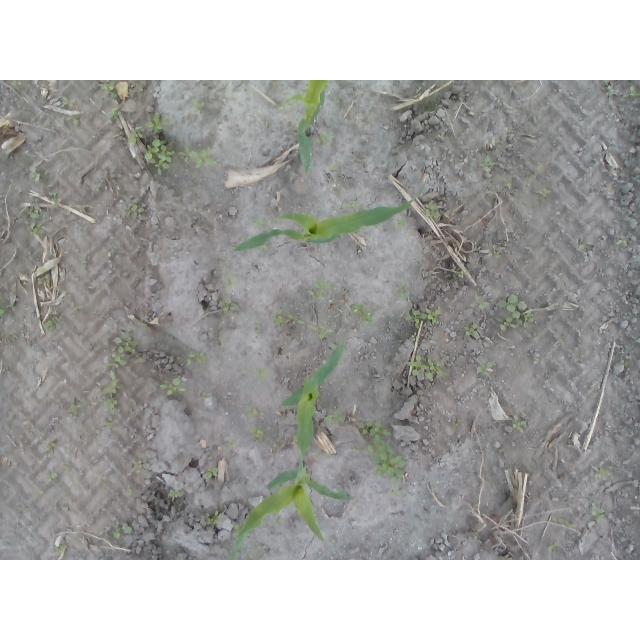Maize: (229, 457, 356, 560), (229, 194, 419, 254), (280, 341, 346, 460), (295, 81, 329, 180)
Weeds: (358, 420, 409, 481), (494, 293, 535, 332), (407, 351, 450, 382), (95, 368, 123, 415), (105, 335, 140, 369), (144, 140, 176, 177), (176, 144, 220, 169), (271, 303, 306, 328), (404, 305, 441, 328), (305, 278, 336, 302), (351, 304, 380, 329), (307, 320, 337, 344), (143, 111, 174, 133), (160, 375, 191, 397), (278, 92, 305, 113), (184, 351, 209, 370), (97, 80, 119, 100), (0, 294, 16, 321), (244, 423, 268, 441), (22, 205, 44, 224), (126, 127, 144, 146), (615, 351, 634, 369), (125, 201, 147, 216), (222, 299, 240, 317), (222, 271, 240, 289), (479, 359, 497, 377), (313, 127, 331, 145), (111, 525, 134, 539), (592, 503, 606, 526), (30, 168, 47, 185), (207, 510, 225, 526), (512, 415, 528, 433), (323, 414, 346, 426), (464, 322, 481, 338), (254, 368, 272, 383), (399, 278, 411, 300), (480, 155, 497, 170), (191, 96, 205, 114), (426, 200, 439, 219), (42, 320, 60, 333), (595, 467, 610, 482), (241, 407, 260, 418), (612, 236, 628, 249), (476, 300, 492, 313), (254, 216, 271, 228), (167, 488, 185, 499), (539, 188, 554, 201), (624, 86, 640, 98), (206, 467, 219, 481), (30, 224, 44, 237), (79, 255, 89, 273), (67, 114, 82, 126), (432, 131, 448, 142), (127, 480, 137, 497), (55, 544, 68, 557), (68, 404, 81, 417), (49, 190, 62, 203), (131, 460, 144, 473), (578, 241, 593, 252), (47, 440, 57, 456), (47, 468, 59, 481), (389, 484, 401, 497), (111, 107, 122, 121), (63, 97, 78, 107), (103, 417, 113, 430), (548, 543, 560, 553), (565, 520, 578, 529), (345, 200, 358, 208), (10, 80, 23, 88), (229, 439, 238, 450), (64, 462, 73, 473), (453, 271, 464, 280), (272, 519, 288, 525), (490, 250, 502, 258), (138, 318, 148, 327), (328, 163, 337, 173), (24, 152, 33, 161), (200, 392, 208, 401), (411, 331, 418, 341), (399, 219, 409, 226), (319, 207, 329, 213), (229, 524, 239, 530), (307, 211, 316, 217), (344, 479, 352, 485), (251, 539, 257, 545)
